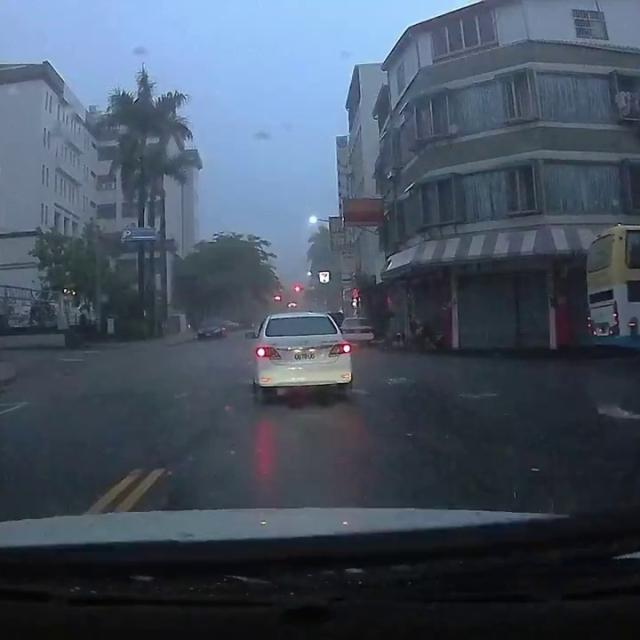Car: (251, 310, 352, 389), (197, 316, 225, 339)
